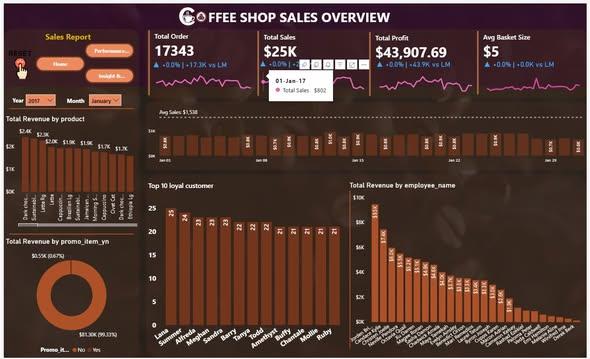

The page's visual inventory and layout, read from the dashboard file:
{"tool":"tableau","page":{"name":"Sales Dashboard","canvas":[1200,800],"ordinal":1},"visuals":[{"type":"image","param":"Image/Icon2.png","box":[0,0,120,89]},{"type":"text","box":[120,0,804,89]},{"type":"dashboard-object","box":[924,0,92,89]},{"type":"dashboard-object","box":[1016,0,92,89]},{"type":"dashboard-object","box":[1108,0,92,89]},{"type":"worksheet","title":"Sales by Month","mark":"Line","rows":["Total_Bill","Calculation_2566559271124299778"],"cols":["transaction_date"],"box":[400,89,400,321]},{"type":"worksheet","title":"Sales by Week","mark":"Area","rows":["Total_Bill"],"cols":["transaction_date"],"box":[800,89,400,321]},{"type":"worksheet","title":"KPI Sales","mark":"Line","rows":["Calculation_5126011232724000768"],"cols":["transaction_date"],"box":[16,95,368,267]},{"type":"text","box":[908,97,284,47.3]},{"type":"parameter","param":"[Parameters].[Parameter 1]","box":[908,144.3,284,47.3]},{"type":"text","box":[908,191.7,284,43]},{"type":"filter","title":"KPI Sales","param":"[federated.1cw3f6g1wk77oe1g50jml00lt89d].[none:product_category:nk]","box":[908,234.7,284,47.3]},{"type":"filter","title":"KPI Sales","param":"[federated.1cw3f6g1wk77oe1g50jml00lt89d].[none:Size:nk]","box":[908,282,284,46]},{"type":"text","box":[908,328,284,42]},{"type":"text","box":[16,362,368,32]},{"type":"filter","title":"KPI Sales","param":"[federated.1cw3f6g1wk77oe1g50jml00lt89d].[none:store_location:nk]","box":[908,370,284,32]},{"type":"worksheet","title":"Weekly Sales Trend","mark":"GanttBar","rows":["Calculation_4496562815699218435"],"cols":["transaction_date"],"box":[0,410,400,390]},{"type":"worksheet","title":" Revenue By Store Location","mark":"Bar","rows":["store_location"],"cols":["Total_Bill"],"box":[400,410,400,390]},{"type":"worksheet","title":"Revenue Per Product Type","mark":"Bar","rows":["product_detail"],"cols":["Total_Bill"],"box":[800,410,400,390]}]}

Visuals, with their boxes on the page's 1200x800 design canvas (x1, y1, x2, y2). These are canvas units, not pixel positions in the 590x359 screenshot, which may show the page scaled, cropped or inside an application window:
image: box(0, 0, 120, 89)
text: box(120, 0, 924, 89)
dashboard-object: box(924, 0, 1016, 89)
dashboard-object: box(1016, 0, 1108, 89)
dashboard-object: box(1108, 0, 1200, 89)
"Sales by Month" worksheet (Line marks): box(400, 89, 800, 410)
"Sales by Week" worksheet (Area marks): box(800, 89, 1200, 410)
"KPI Sales" worksheet (Line marks): box(16, 95, 384, 362)
text: box(908, 97, 1192, 144)
parameter: box(908, 144, 1192, 192)
text: box(908, 192, 1192, 235)
"KPI Sales" filter: box(908, 235, 1192, 282)
"KPI Sales" filter: box(908, 282, 1192, 328)
text: box(908, 328, 1192, 370)
text: box(16, 362, 384, 394)
"KPI Sales" filter: box(908, 370, 1192, 402)
"Weekly Sales Trend" worksheet (GanttBar marks): box(0, 410, 400, 800)
" Revenue By Store Location" worksheet (Bar marks): box(400, 410, 800, 800)
"Revenue Per Product Type" worksheet (Bar marks): box(800, 410, 1200, 800)
